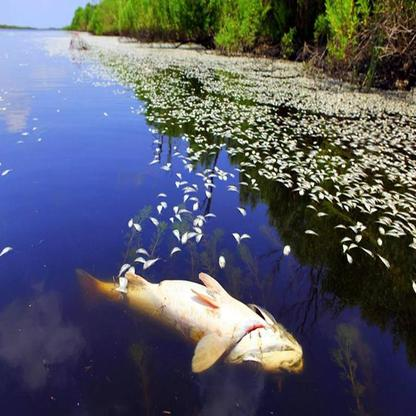deceased fish: (66, 255, 304, 379)
